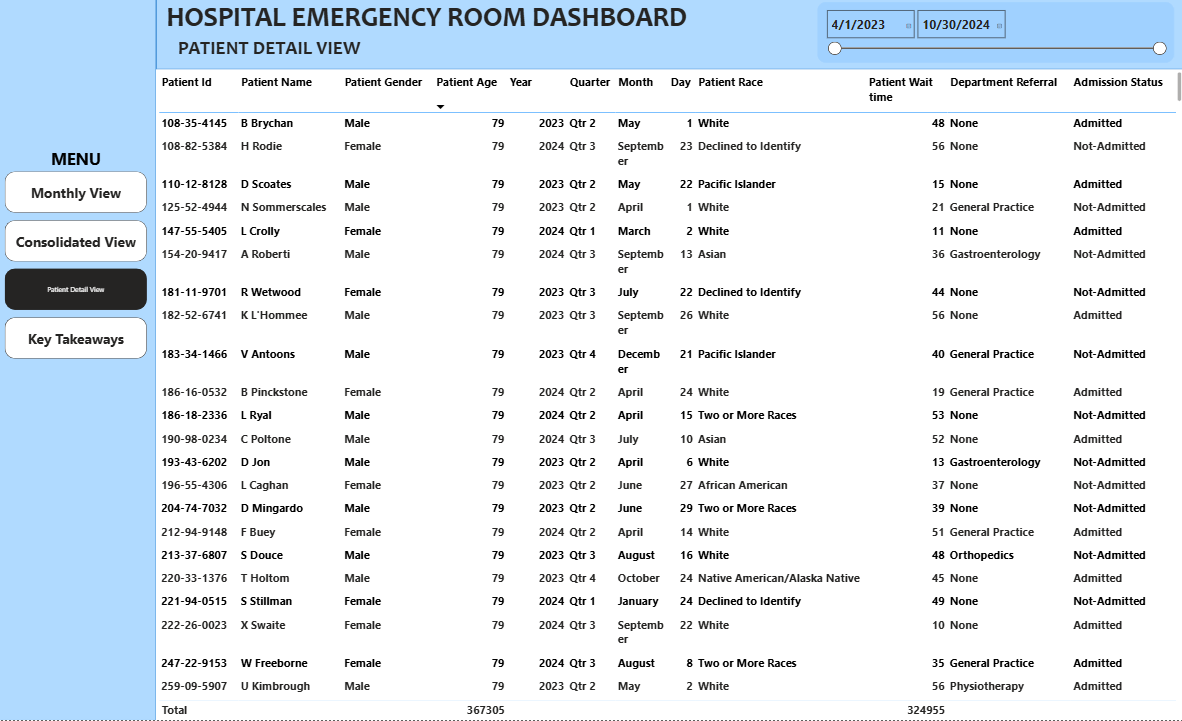

What the dashboard file says about the page in this screenshot:
{"tool":"powerbi","page":{"name":"Patient Detail View","canvas":[2300,1400],"ordinal":2},"visuals":[{"type":"shape","box":[0,0,310,1400],"z":0},{"type":"shape","box":[310,0,1990,140],"z":1000},{"type":"textbox","box":[310,0,1046.7,93.3],"z":2000},{"type":"textbox","box":[332.5,70,395,67.5],"z":3000},{"type":"slicer","fields":{"Values":["Date Table.Date"]},"box":[1590,10,690,117.5],"z":4000},{"type":"tableEx","fields":{"Values":["Hospital ER_Data.Patient Id","Hospital ER_Data.Full Name","Hospital ER_Data.Patient Gender","Sum(Hospital ER_Data.Patient Age)","Hospital ER_Data.Patient Admission Date.Variation.Date Hierarchy.Year","Hospital ER_Data.Patient Admission Date.Variation.Date Hierarchy.Quarter","Hospital ER_Data.Patient Admission Date.Variation.Date Hierarchy.Month","Hospital ER_Data.Patient Admission Date.Variation.Date Hierarchy.Day","Hospital ER_Data.Patient Race","Sum(Hospital ER_Data.Patient Waittime)","Hospital ER_Data.Department Referral","Hospital ER_Data.Admission Status"]},"box":[310,140,1990,1260],"z":5000},{"type":"pageNavigator","title":"MENU","box":[17.5,290,275,410],"z":6000}]}

Visuals, with their boxes in screenshot pixels (x1, y1, x2, y2), scaled from the page's 2300x1400 canvas onto the 1182x721 screenshot:
shape: region(0, 0, 159, 720)
shape: region(159, 0, 1181, 72)
textbox: region(159, 0, 697, 48)
textbox: region(171, 36, 374, 71)
slicer - Date Table.Date: region(817, 5, 1172, 66)
tableEx - Hospital ER_Data.Patient Id x Hospital ER_Data.Full Name: region(159, 72, 1181, 720)
"MENU" pageNavigator: region(9, 149, 150, 360)
